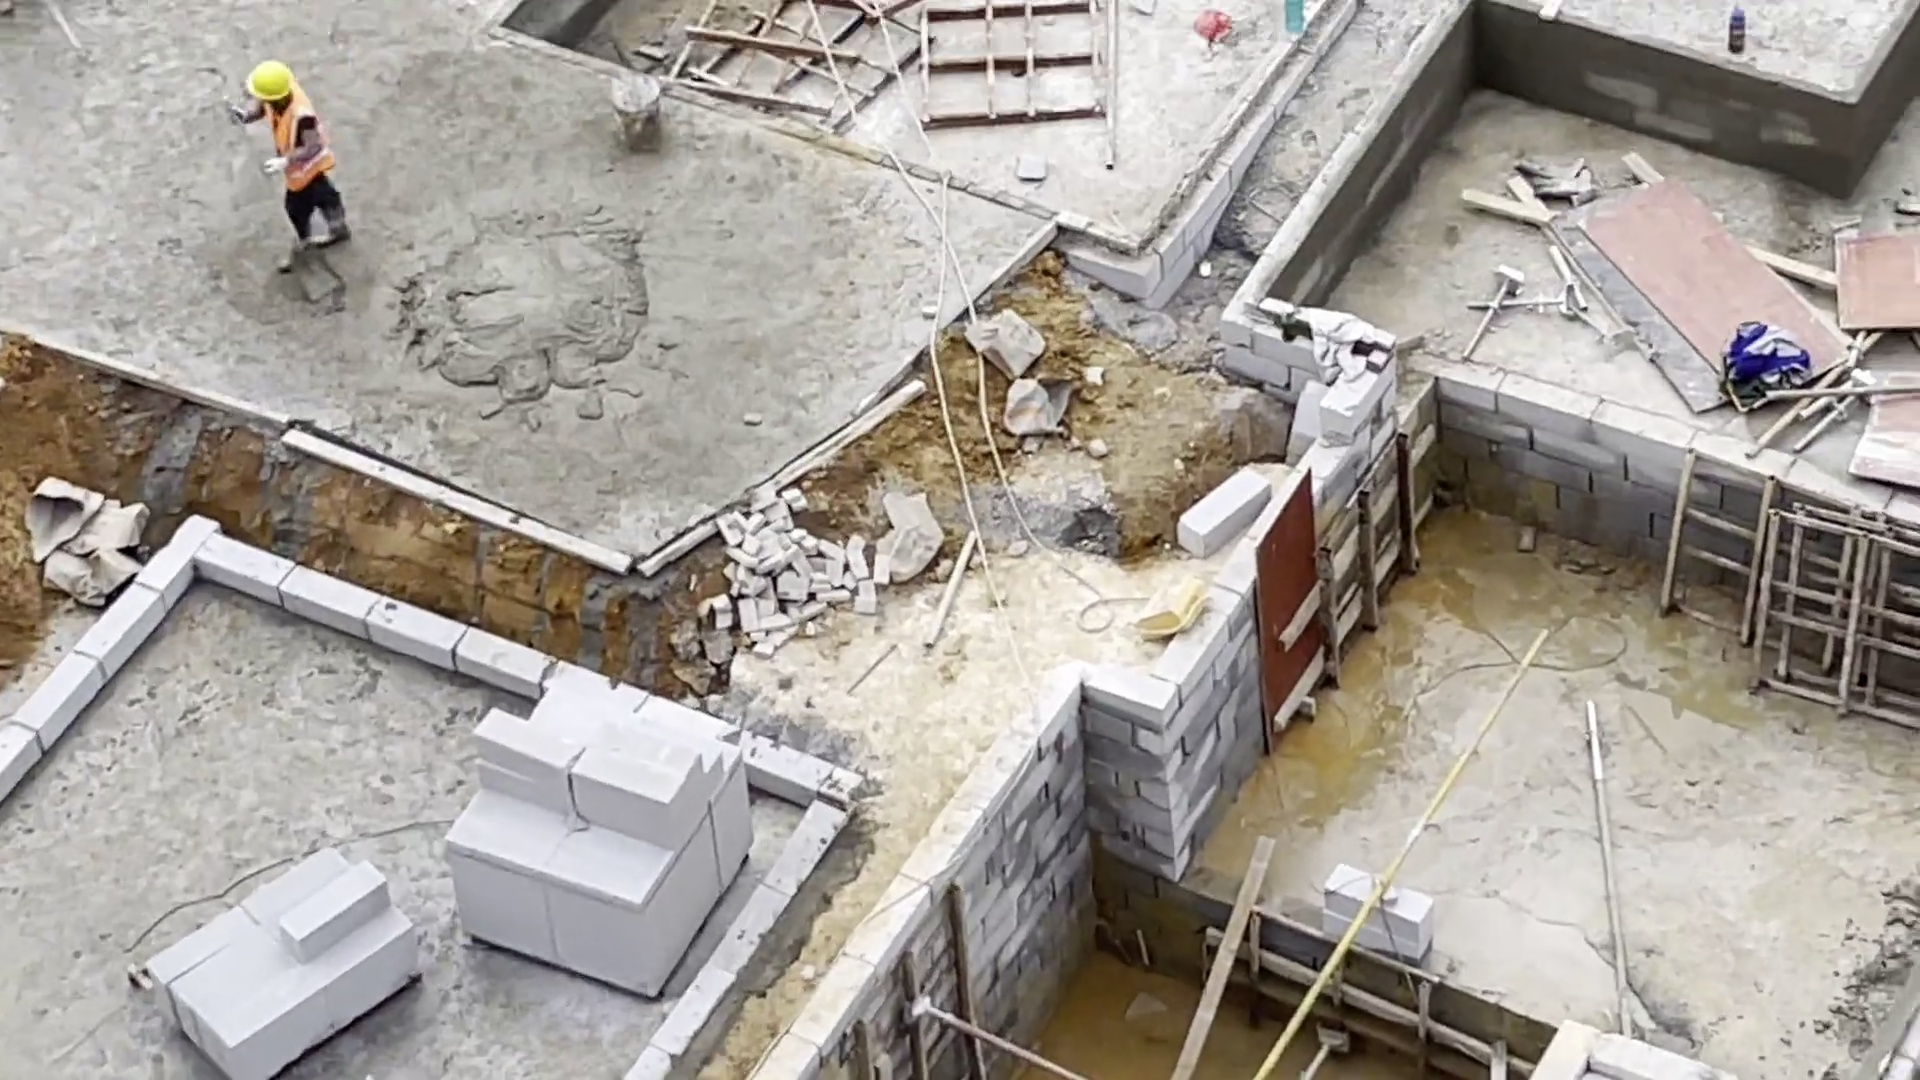brick: (444, 670, 757, 999), (144, 845, 424, 1077)
helmet: (242, 60, 295, 102)
person: (229, 59, 353, 277)
vest: (262, 87, 338, 193)
